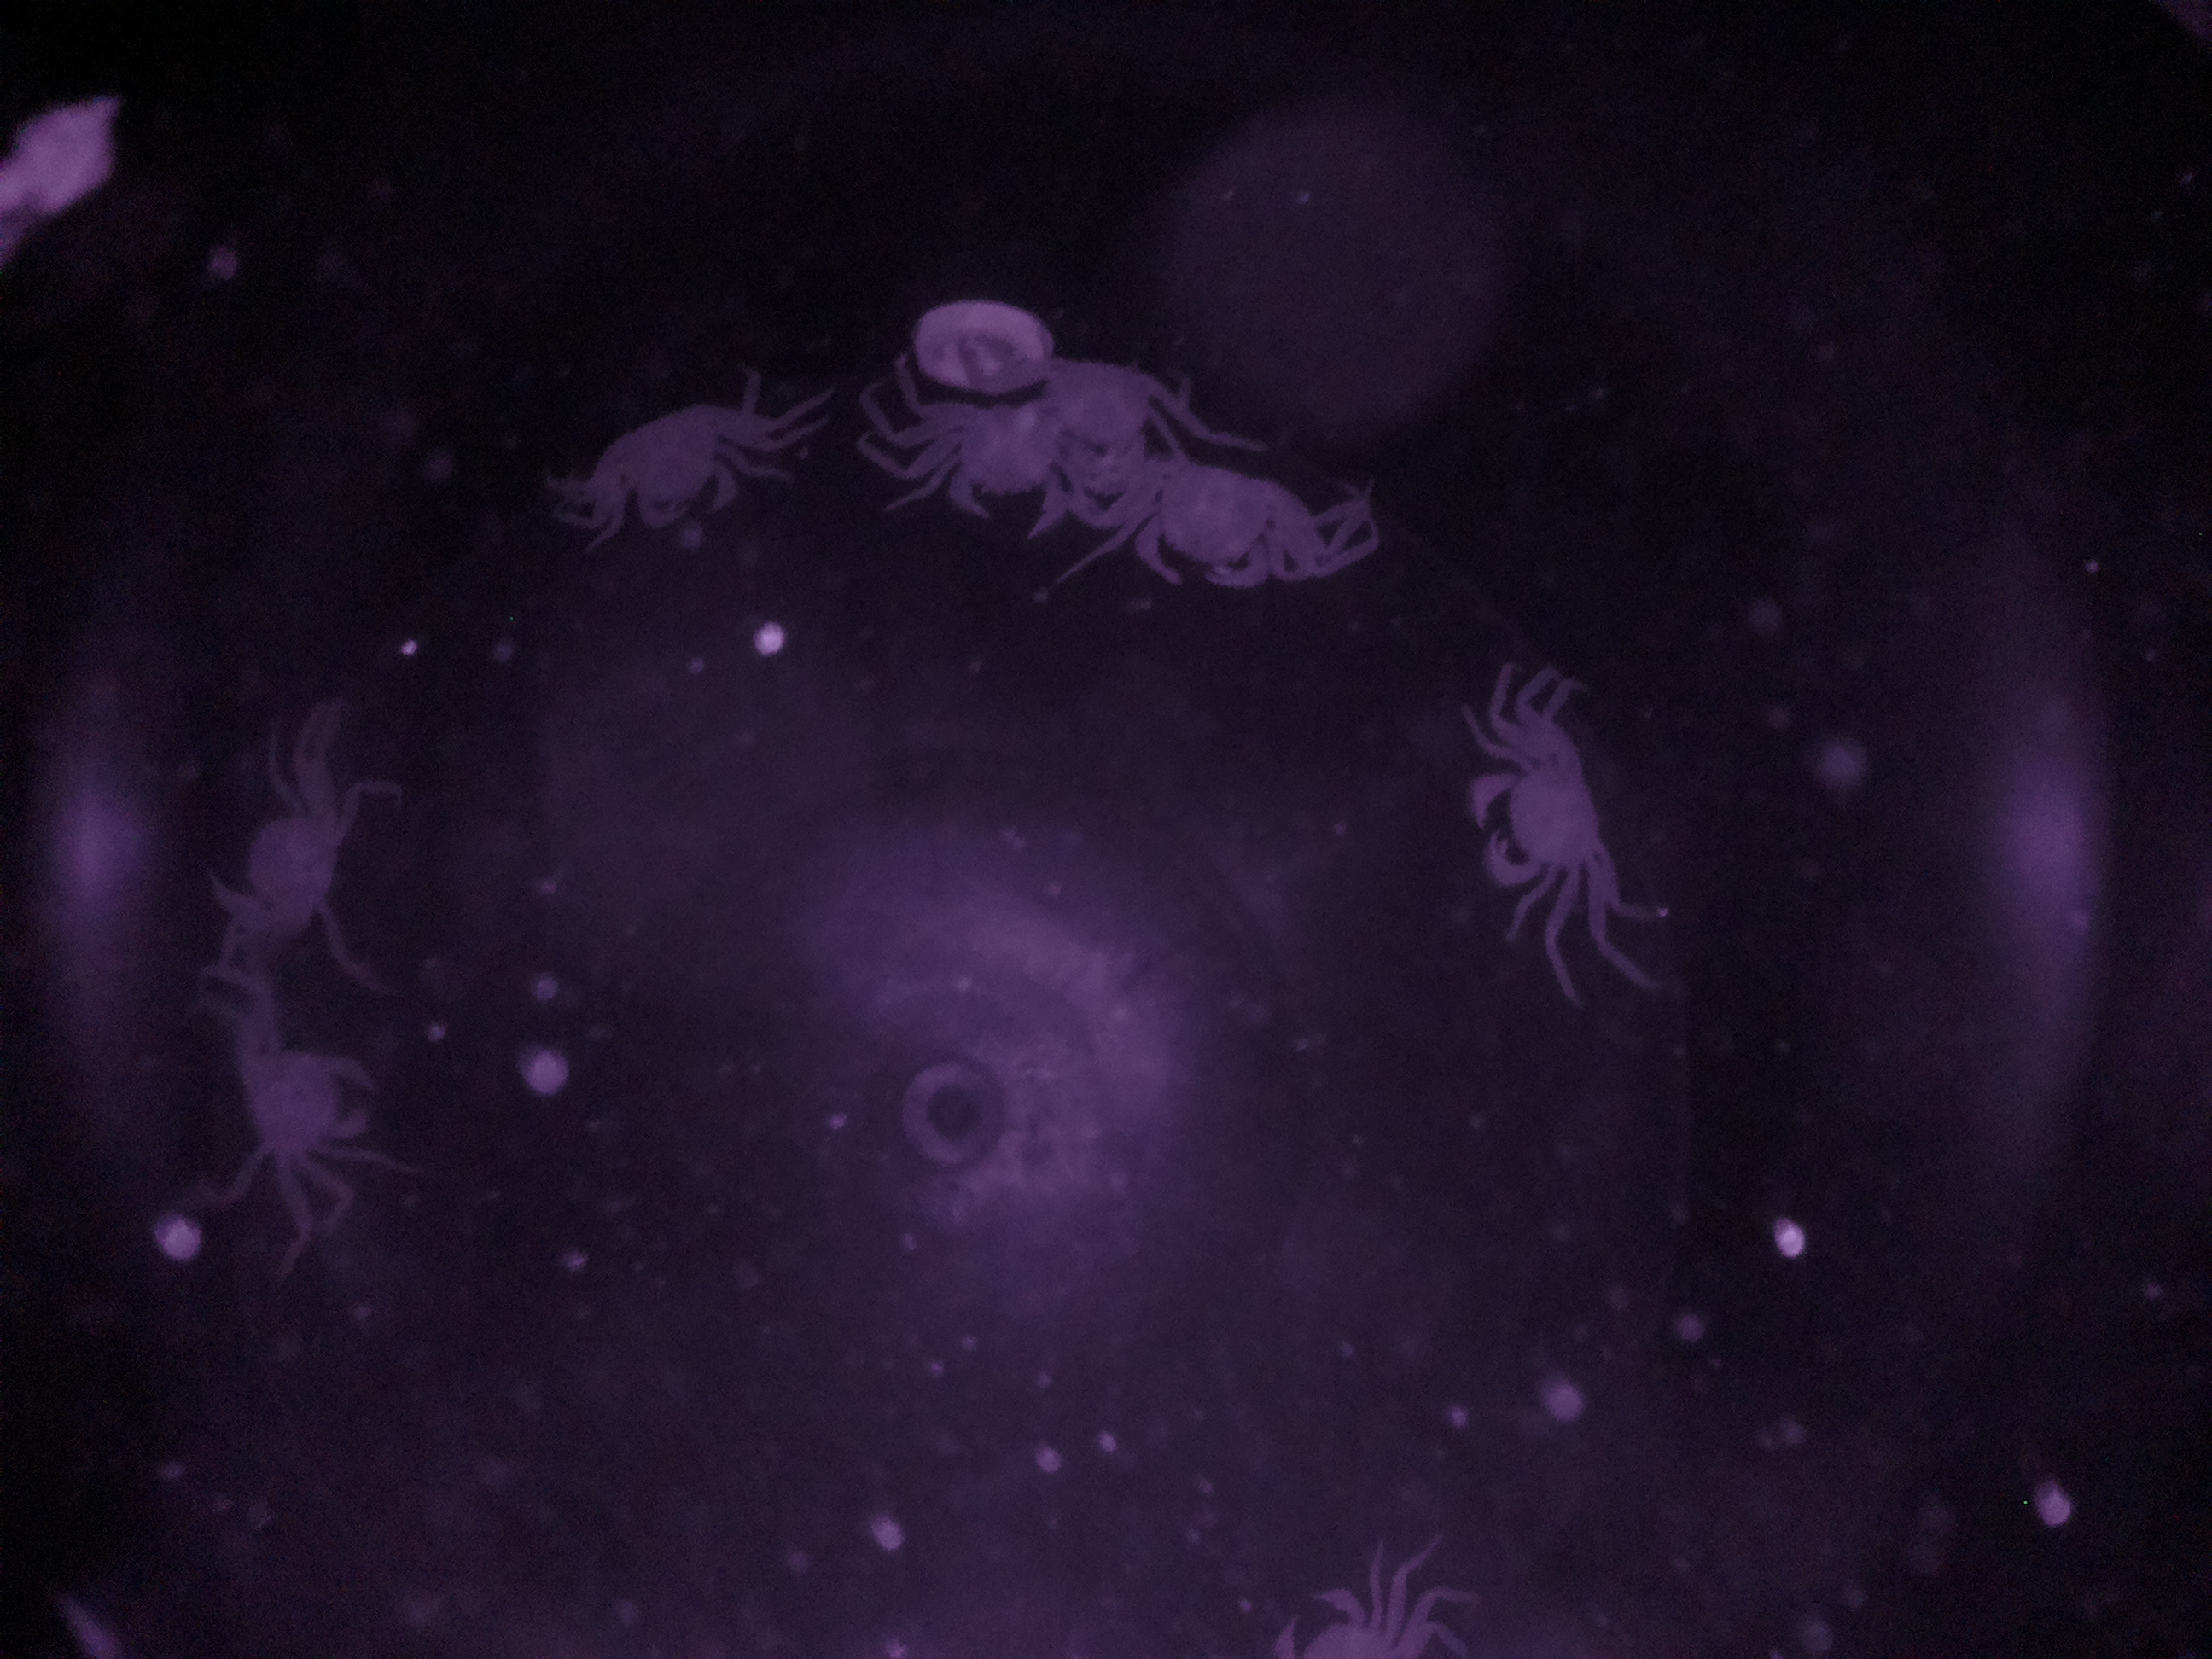Crab: (1449, 706, 1637, 955), (585, 387, 794, 559)
